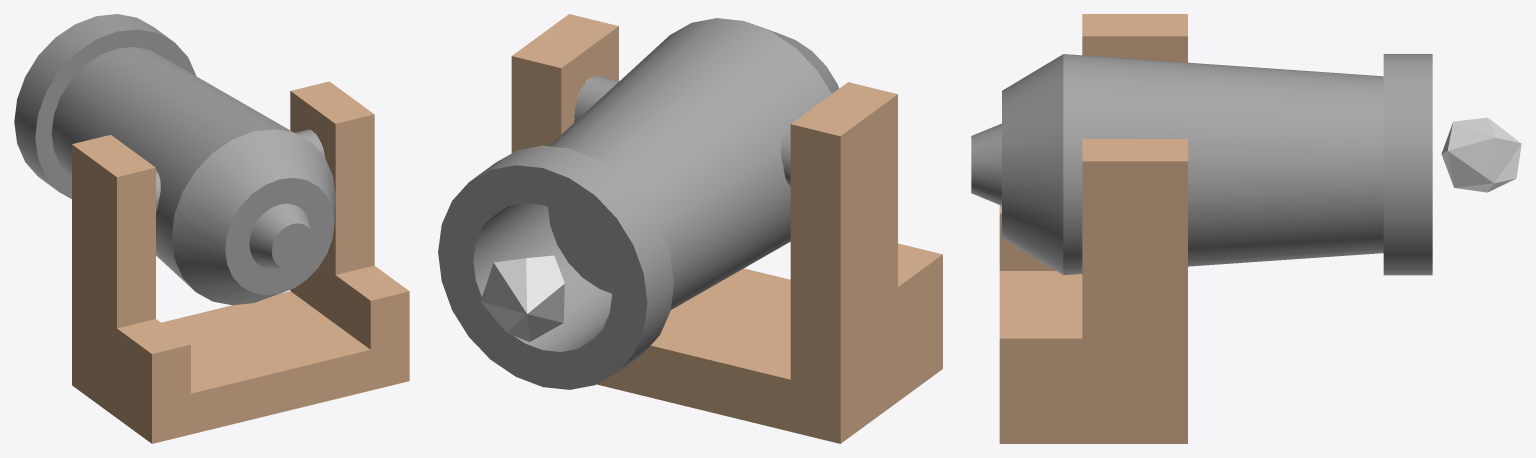
Rendered from gltfcannon.glb.
3 views of the same model, side by side, from view 1: azimuth 30°, elevation 25°; view 2: azimuth 150°, elevation 25°; view 3: azimuth 270°, elevation 25° (orthographic). The views are drawn at different scales.
Parts seen in each view (by area): view 1: cannon, barrel; view 2: barrel, cannon, spawn; view 3: barrel, cannon, spawn.
Part boxes in pixels (x1,y1,x2,y2): cannon: (72, 81, 409, 443); barrel: (14, 14, 335, 305); barrel: (438, 18, 838, 389); cannon: (511, 14, 942, 443); spawn: (480, 255, 564, 341); barrel: (971, 54, 1432, 275); cannon: (999, 14, 1187, 443); spawn: (1441, 117, 1521, 192).
Size of the model in its own units: 0.4345 by 0.4209 by 0.6856.
